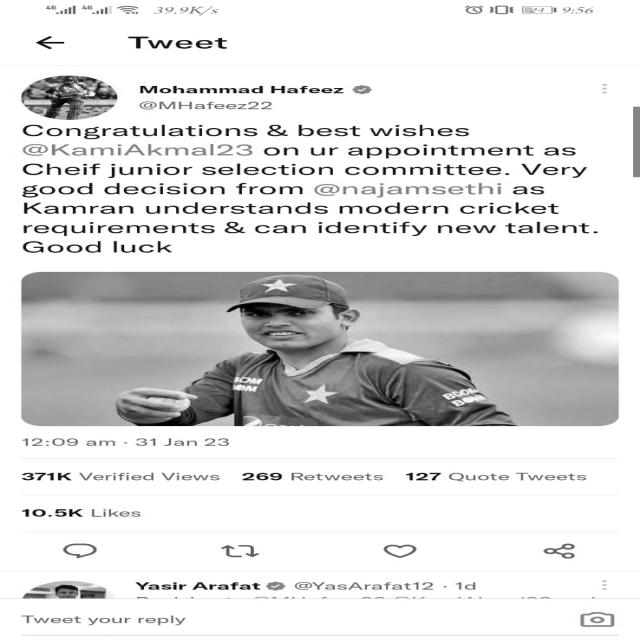CheckedTextView: (344, 81, 386, 101), (265, 578, 293, 592)
EditText: (8, 606, 558, 630)
ImageButton: (21, 35, 74, 57), (594, 81, 615, 102)
ImageView: (30, 270, 620, 424), (9, 468, 596, 486), (5, 433, 234, 452), (22, 76, 122, 118), (578, 609, 622, 633)
TextView: (8, 121, 604, 251), (134, 79, 342, 108), (4, 503, 189, 522), (126, 34, 232, 58), (308, 580, 491, 591), (143, 577, 257, 591)
